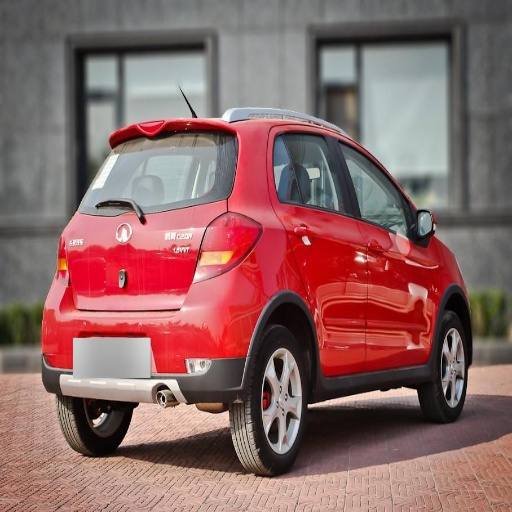back_bumper: (43, 257, 268, 406)
back_right_door: (271, 128, 368, 366)
trunk: (64, 204, 221, 333)
